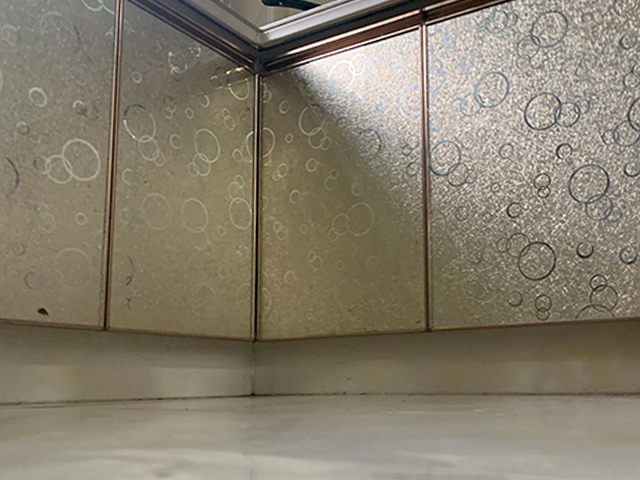cabinet: (257, 1, 640, 402), (1, 1, 256, 399)
